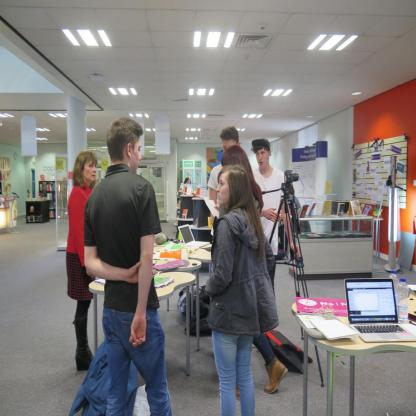board: (342, 276, 407, 344), (178, 224, 209, 248), (397, 277, 409, 328), (389, 270, 398, 309)
